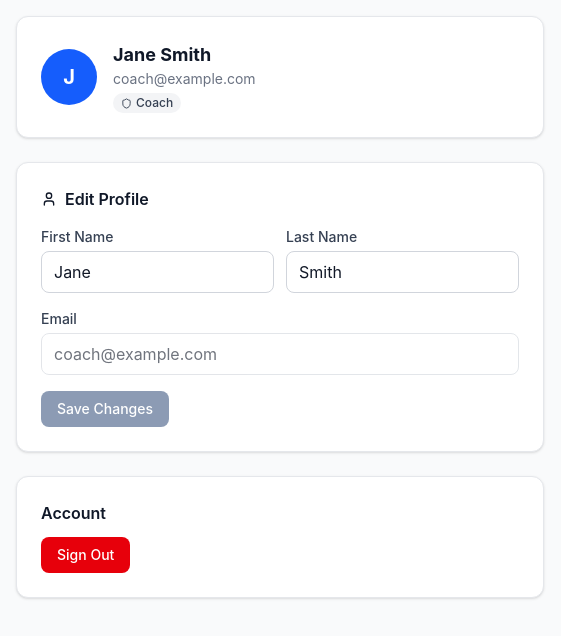
it: ProfilePage — error visibility on blur › shows "First name is required" after clearing first name and blurring
Clear the field labelled "First Name": (158, 272) [41,251,274,293]
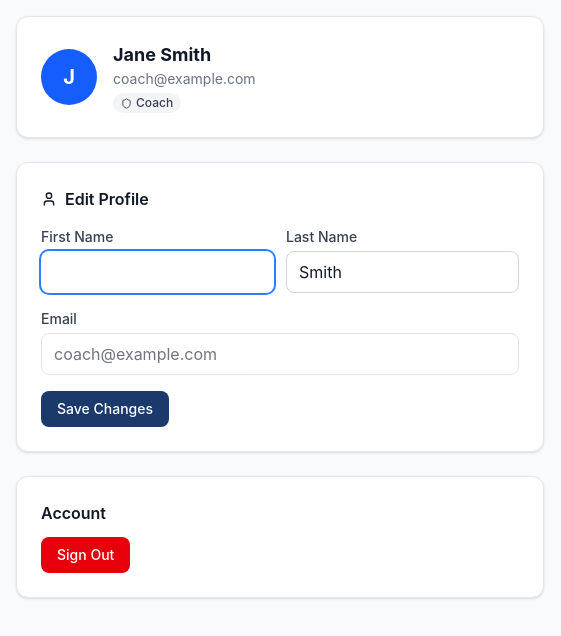
Leave the field labelled "First Name", box [41,251,274,293]
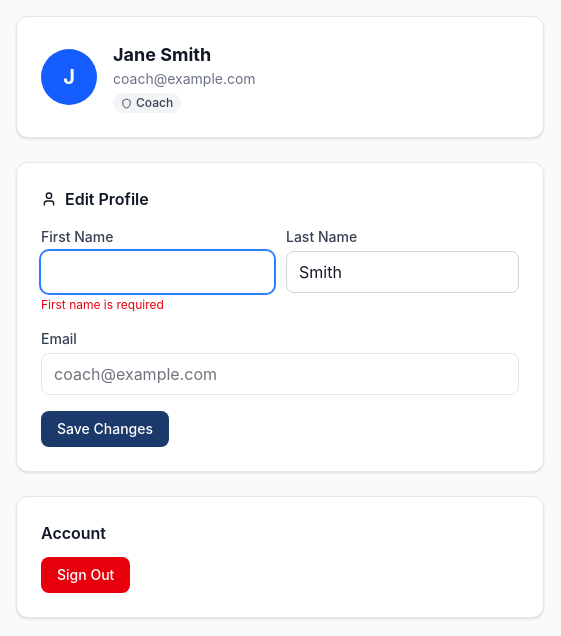
Check: the text "First name is required" is shown, box [41,297,164,312]
